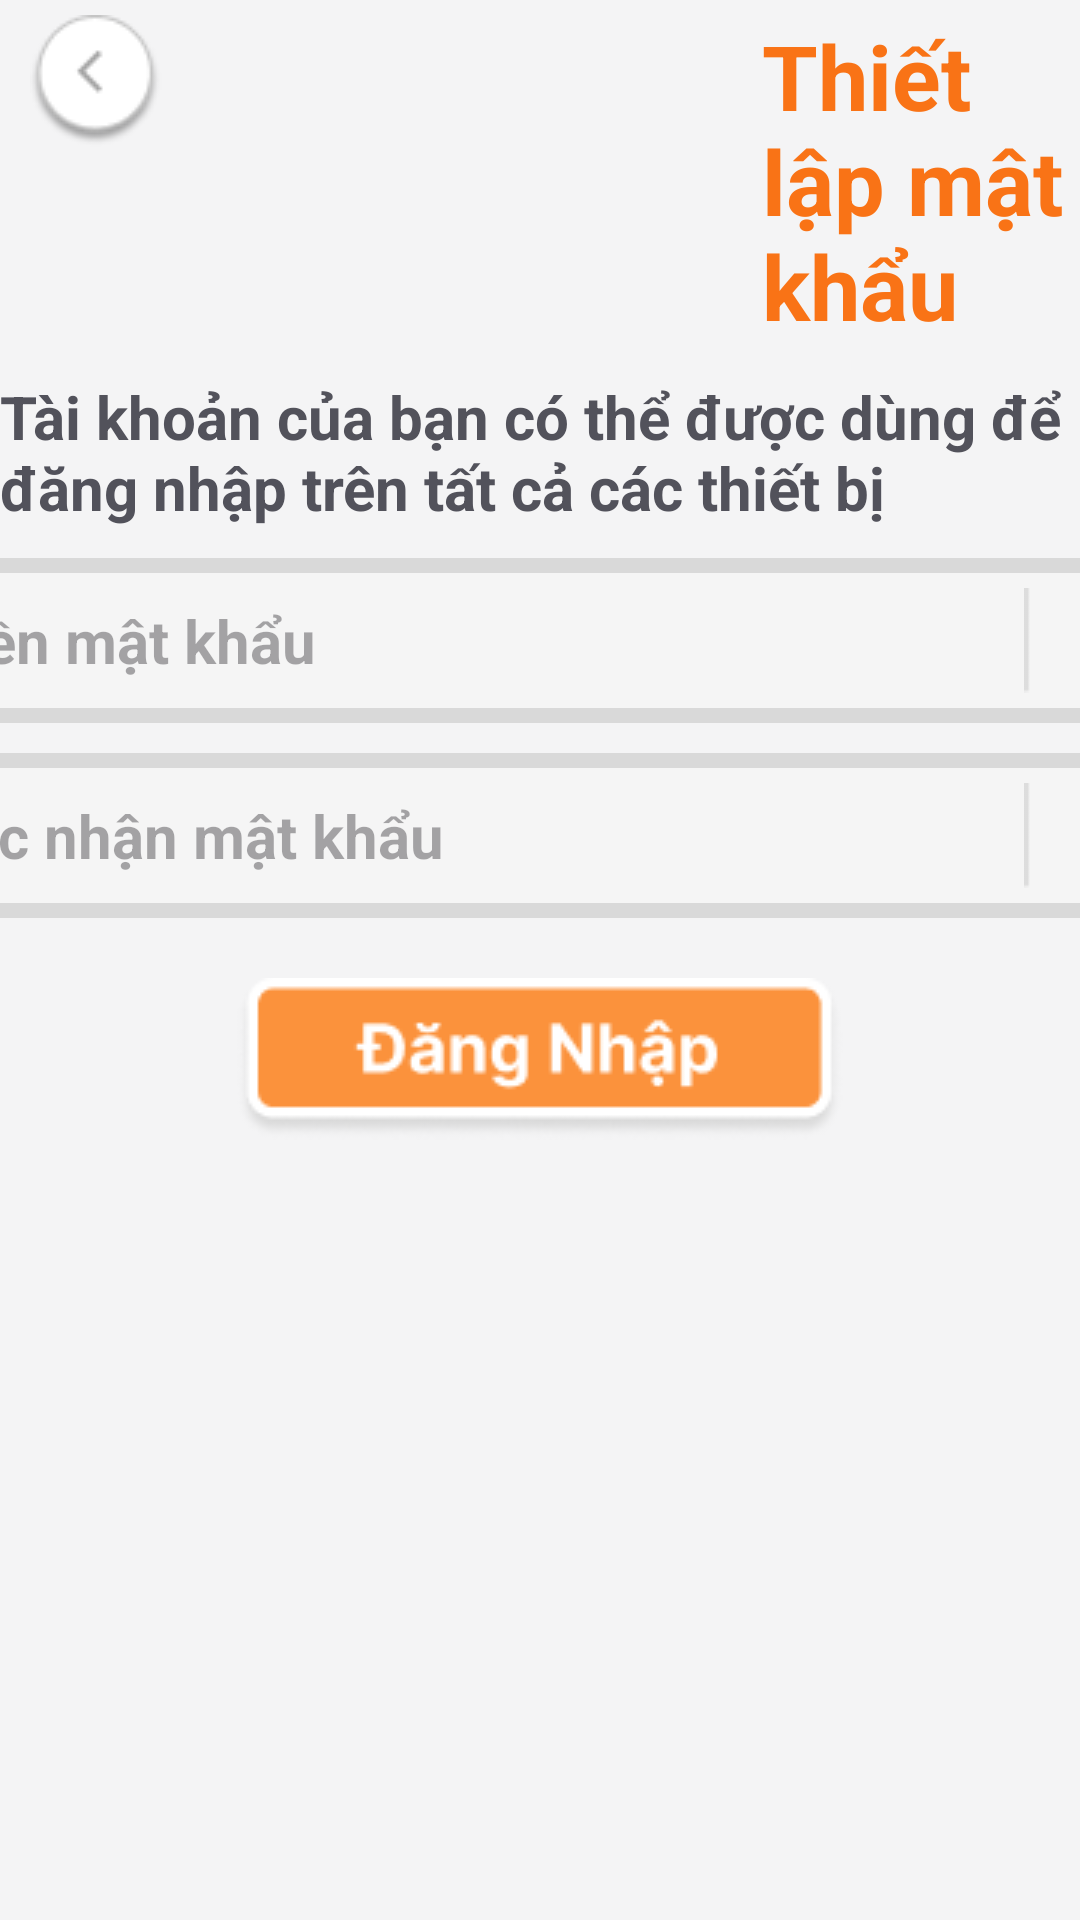

Icons on this 1080×1920 Android screen, each with the point to tap as [x,y]:
exit: [95,78]
